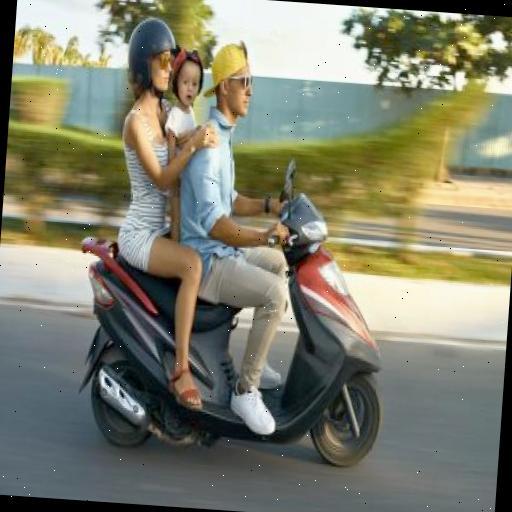no helmet: (199, 22, 288, 171)
triple riding: (88, 2, 334, 312)
